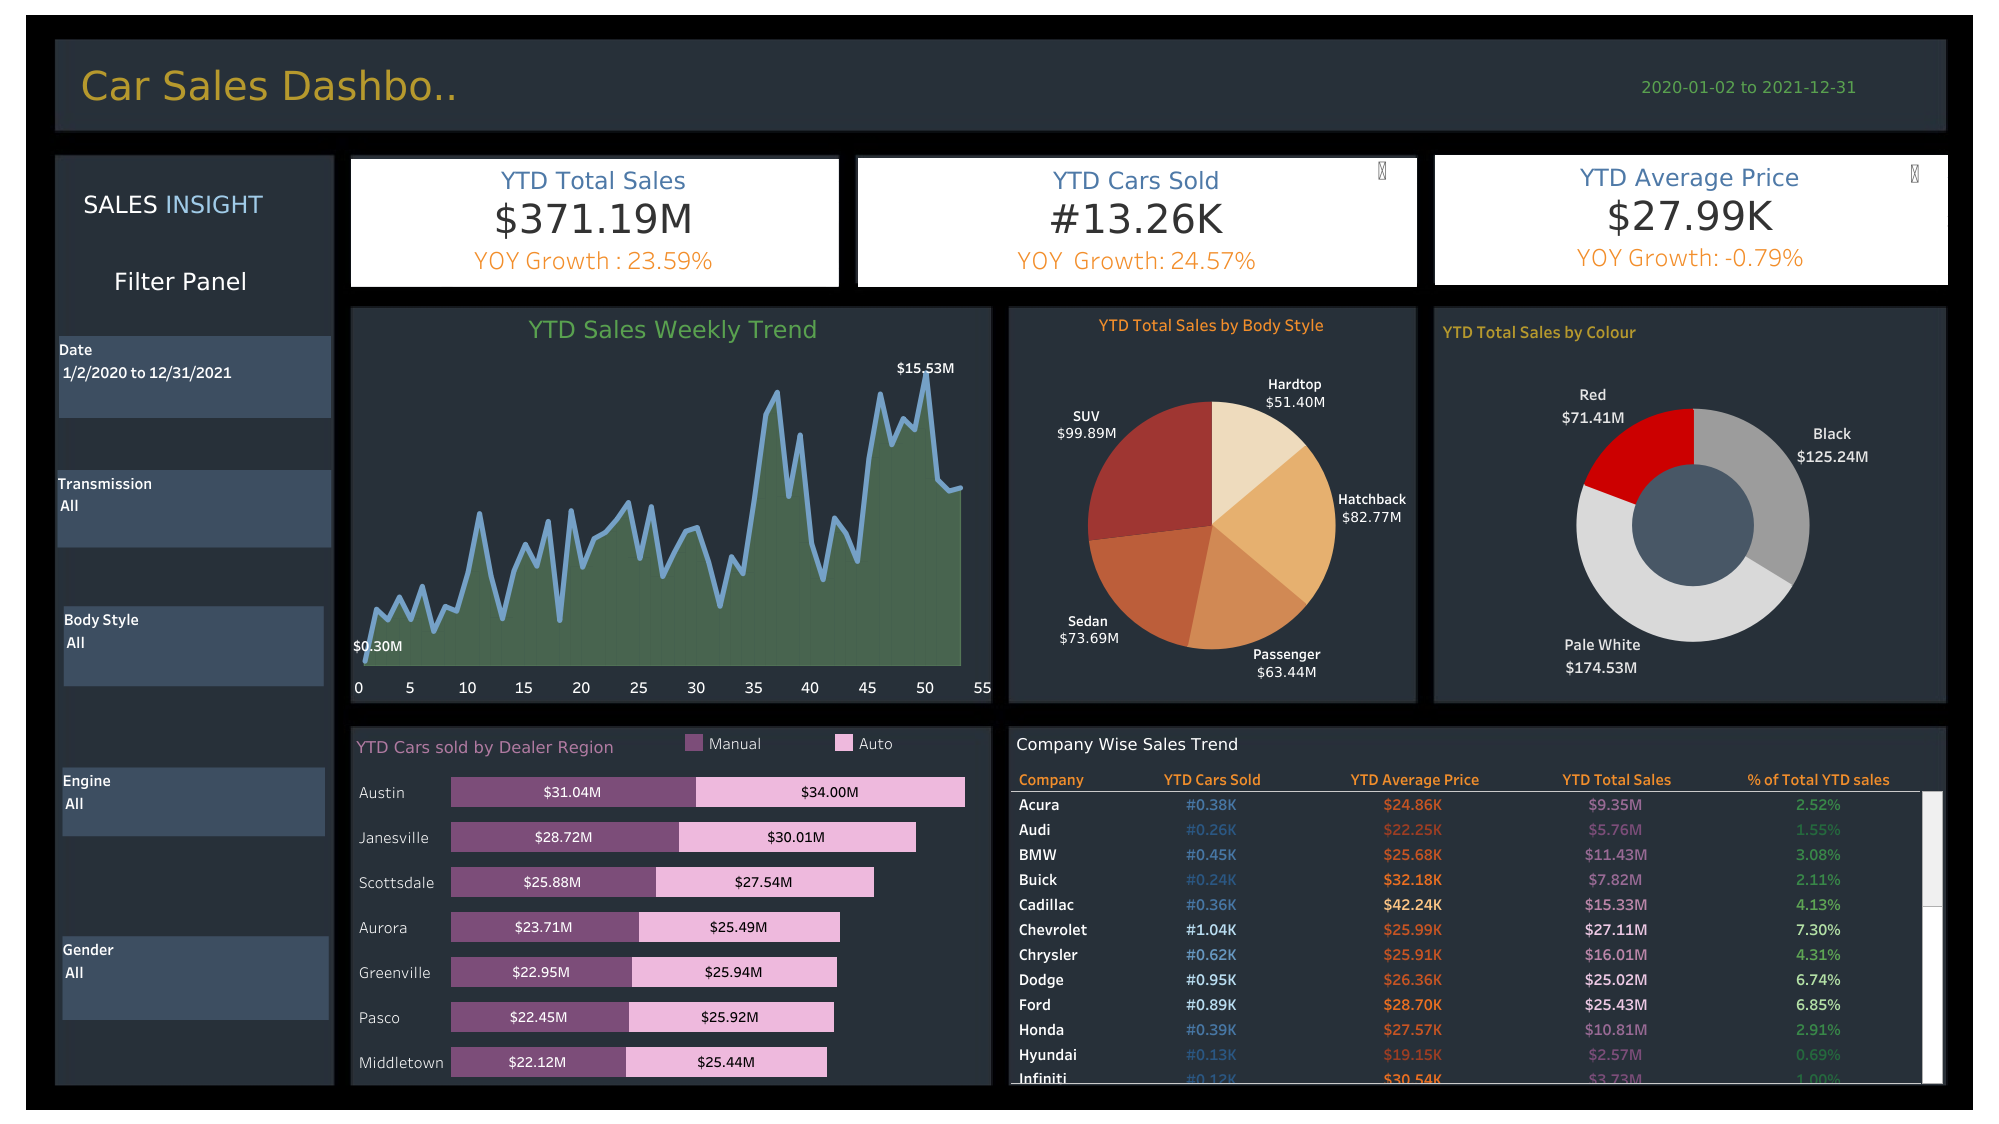

Layout of this report page (visuals, bound fields, positions):
{"tool":"tableau","page":{"name":"Dashboard 1","canvas":[1600,900],"ordinal":0},"visuals":[{"type":"image","param":"Image/Car Sales Dashboard Background.jpg","box":[8,8,1584,884]},{"type":"worksheet","title":"Date Range","mark":"Automatic","box":[1244,35,311,70]},{"type":"text","box":[56,47,319,44]},{"type":"text","box":[1099,119,33,33]},{"type":"text","box":[1525,123,57,30]},{"type":"worksheet","title":"YTD Average Price","mark":"Automatic","box":[1148,124,409,104]},{"type":"worksheet","title":"YTD Cars Sold","mark":"Automatic","box":[686,126,447,102]},{"type":"worksheet","title":"YTD Total Sales","mark":"Automatic","box":[281,127,389,101]},{"type":"text","box":[55,142,167,42]},{"type":"text","box":[61,204,167,42]},{"type":"worksheet","title":"YTD Total Sales by Body Style","mark":"Pie","box":[806,244,326,318]},{"type":"worksheet","title":"YTD Sales Weekly Trend","mark":"Line","rows":["Calculation_3581487613208653824","Calculation_3581487613208653824"],"cols":["Date"],"box":[282,246,513,317]},{"type":"worksheet","title":"YTD Total sales by Color","mark":"Pie","rows":["Calculation_3581487613561331722","Calculation_3581487613561356300"],"box":[1150,249,408,308]},{"type":"filter","title":"YTD Sales Weekly Trend","param":"[federated.0j9zycq0jshikd1etg1xp0qubjmq].[none:Date:qk]","box":[47,269,218,65]},{"type":"filter","title":"YTD Sales Weekly Trend","param":"[federated.0j9zycq0jshikd1etg1xp0qubjmq].[none:Transmission:nk]","box":[46,376,219,62]},{"type":"filter","title":"YTD Sales Weekly Trend","param":"[federated.0j9zycq0jshikd1etg1xp0qubjmq].[none:Body Style:nk]","box":[51,485,208,64]},{"type":"worksheet","title":"Company wise Sales Trend","mark":"Automatic","rows":["Company"],"box":[809,581,746,287]},{"type":"worksheet","title":"YTD Cars sold by Dealer region","mark":"Automatic","rows":["Dealer_Region"],"cols":["Calculation_3581487613208653824"],"box":[281,583,512,284]},{"type":"legend","title":"YTD Cars sold by Dealer region","param":"[federated.0j9zycq0jshikd1etg1xp0qubjmq].[none:Transmission:nk]","box":[545,584,244,34]},{"type":"filter","title":"YTD Sales Weekly Trend","param":"[federated.0j9zycq0jshikd1etg1xp0qubjmq].[none:Engine:nk]","box":[50,614,210,55]},{"type":"filter","title":"YTD Sales Weekly Trend","param":"[federated.0j9zycq0jshikd1etg1xp0qubjmq].[none:Gender:nk]","box":[50,749,213,67]}]}

Visuals, with their boxes in screenshot pixels (x1, y1, x2, y2), scaled from the page's 1600x900 canvas onto the 1999x1124 screenshot:
image: bbox(10, 10, 1989, 1114)
"Date Range" worksheet: bbox(1554, 44, 1943, 131)
text: bbox(70, 59, 469, 114)
text: bbox(1373, 149, 1414, 190)
text: bbox(1905, 154, 1977, 191)
"YTD Average Price" worksheet: bbox(1434, 155, 1945, 285)
"YTD Cars Sold" worksheet: bbox(857, 157, 1416, 285)
"YTD Total Sales" worksheet: bbox(351, 159, 837, 285)
text: bbox(69, 177, 277, 230)
text: bbox(76, 255, 285, 307)
"YTD Total Sales by Body Style" worksheet (Pie marks): bbox(1007, 305, 1414, 702)
"YTD Sales Weekly Trend" worksheet (Line marks): bbox(352, 307, 993, 703)
"YTD Total sales by Color" worksheet (Pie marks): bbox(1437, 311, 1947, 696)
"YTD Sales Weekly Trend" filter: bbox(59, 336, 331, 417)
"YTD Sales Weekly Trend" filter: bbox(57, 470, 331, 547)
"YTD Sales Weekly Trend" filter: bbox(64, 606, 324, 686)
"Company wise Sales Trend" worksheet: bbox(1011, 726, 1943, 1084)
"YTD Cars sold by Dealer region" worksheet: bbox(351, 728, 991, 1083)
"YTD Cars sold by Dealer region" legend: bbox(681, 729, 986, 772)
"YTD Sales Weekly Trend" filter: bbox(62, 767, 325, 836)
"YTD Sales Weekly Trend" filter: bbox(62, 935, 329, 1019)
